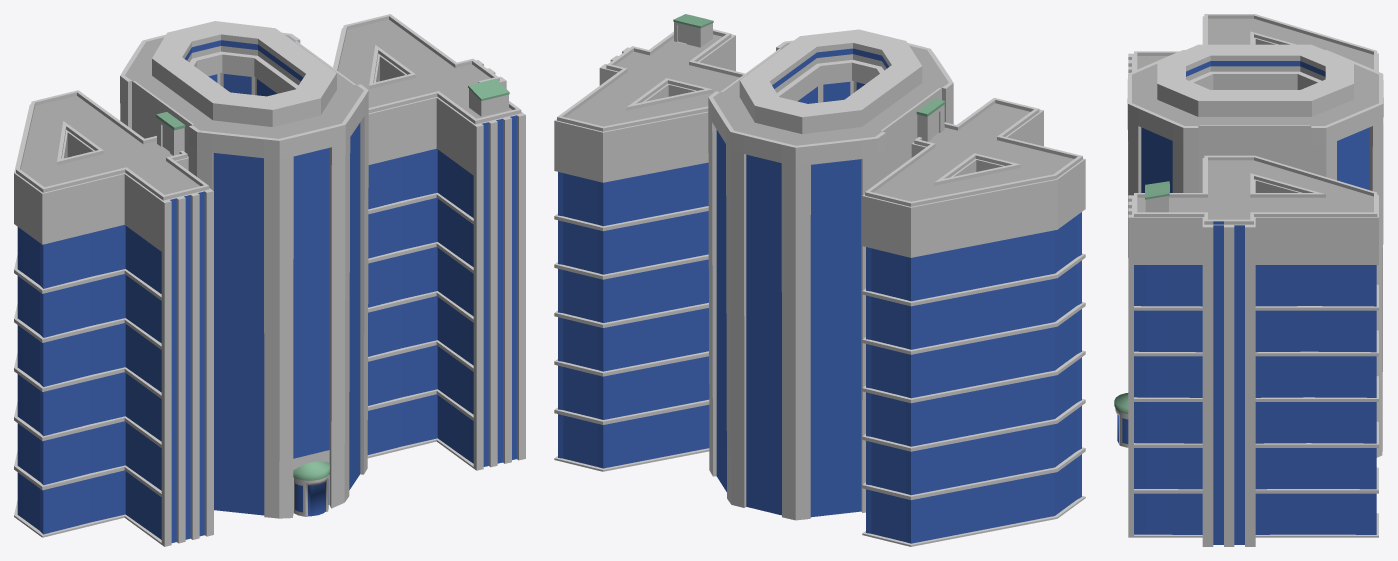
3 renders of one model, left to right at view 1: azimuth 30°, elevation 25°; view 2: azimuth 150°, elevation 25°; view 3: azimuth 270°, elevation 25°, orthographic. The views are drawn at different scales.
Visible parts, largest first — view 1: Joined; view 2: Joined; view 3: Joined.
Boxes of the visible parts, box(x1,y1,x2,y2) form: Joined: box(14, 14, 525, 546); Joined: box(554, 14, 1085, 546); Joined: box(1114, 14, 1383, 546).
Size of the model in its own units: 283 by 231 by 152.
